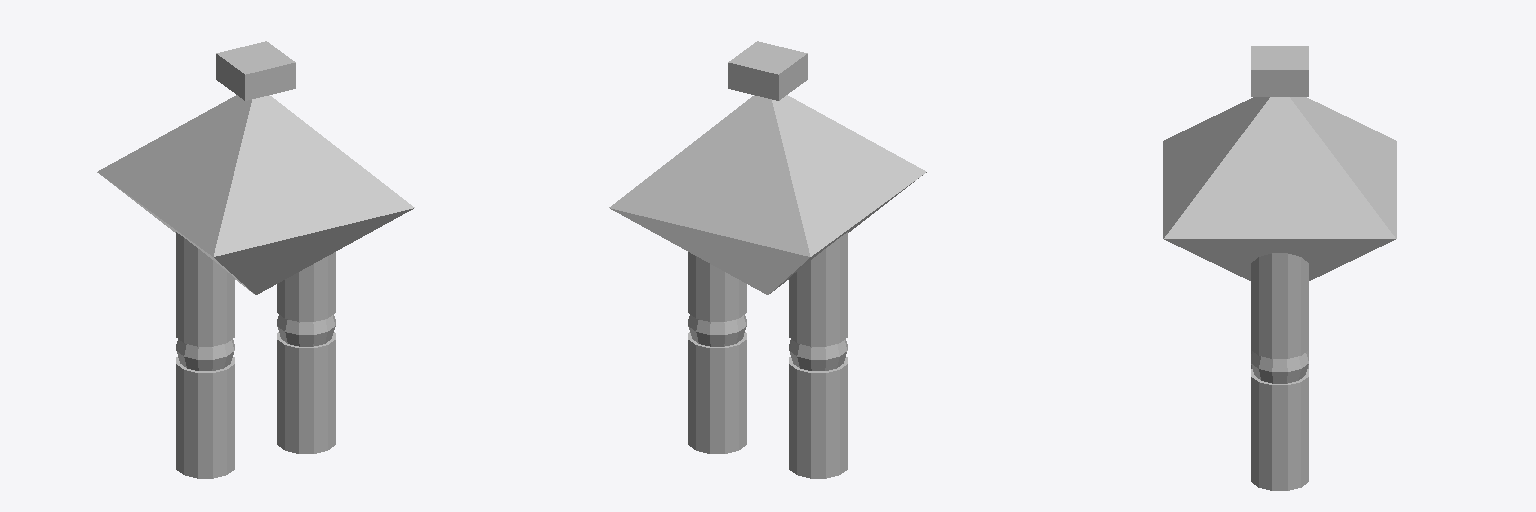
The model's file is Enemy1.obj.
3 views of the same model, side by side, from view 1: azimuth 30°, elevation 25°; view 2: azimuth 150°, elevation 25°; view 3: azimuth 270°, elevation 25° (orthographic).
Parts seen in each view (by area): view 1: pyramid, cylinder, cuboid, sphere; view 2: pyramid, cylinder, cuboid, sphere; view 3: pyramid, cylinder, cuboid, sphere.
Boxes of the visible parts, box(x1,y1,x2,y2) form: pyramid: box(97, 95, 414, 294); cylinder: box(176, 232, 335, 478); cuboid: box(216, 41, 295, 100); sphere: box(176, 315, 335, 370); pyramid: box(609, 95, 926, 294); cylinder: box(688, 232, 847, 478); cuboid: box(728, 41, 807, 100); sphere: box(688, 315, 847, 370); pyramid: box(1163, 97, 1396, 280); cylinder: box(1251, 253, 1308, 490); cuboid: box(1251, 46, 1308, 96); sphere: box(1251, 351, 1308, 383).
Bounding box in the file's own units: 1 × 1.88 × 1.